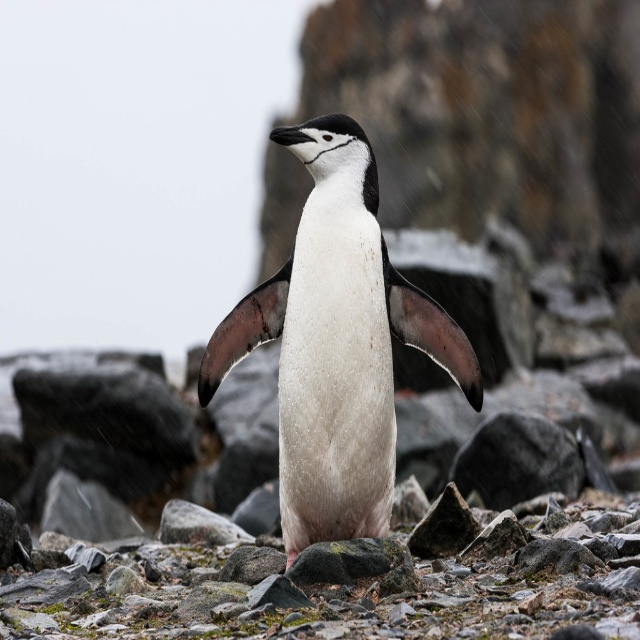Penguin: (196, 107, 483, 574)
